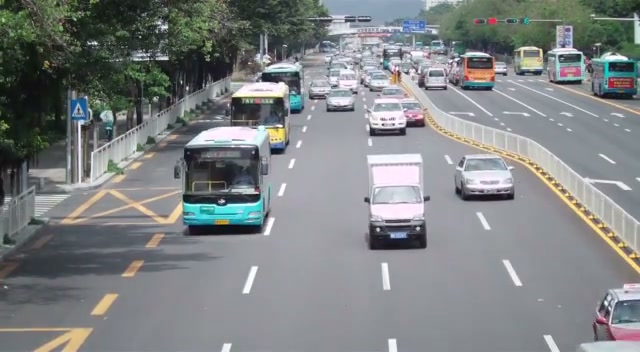bus: (179, 125, 272, 230), (230, 82, 291, 153), (261, 62, 303, 115), (590, 55, 639, 98), (547, 48, 586, 85), (460, 51, 496, 90), (514, 46, 544, 76)
car: (452, 154, 515, 201), (592, 284, 640, 343), (366, 99, 408, 136), (400, 100, 426, 127), (326, 89, 355, 112), (423, 68, 448, 91), (308, 78, 332, 100), (366, 70, 390, 91), (495, 62, 508, 76)
truck: (364, 154, 429, 250), (514, 46, 544, 76)
